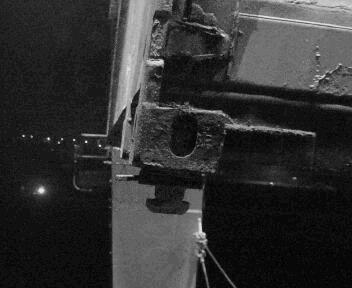twist_lock_1: (132, 164, 209, 220)
